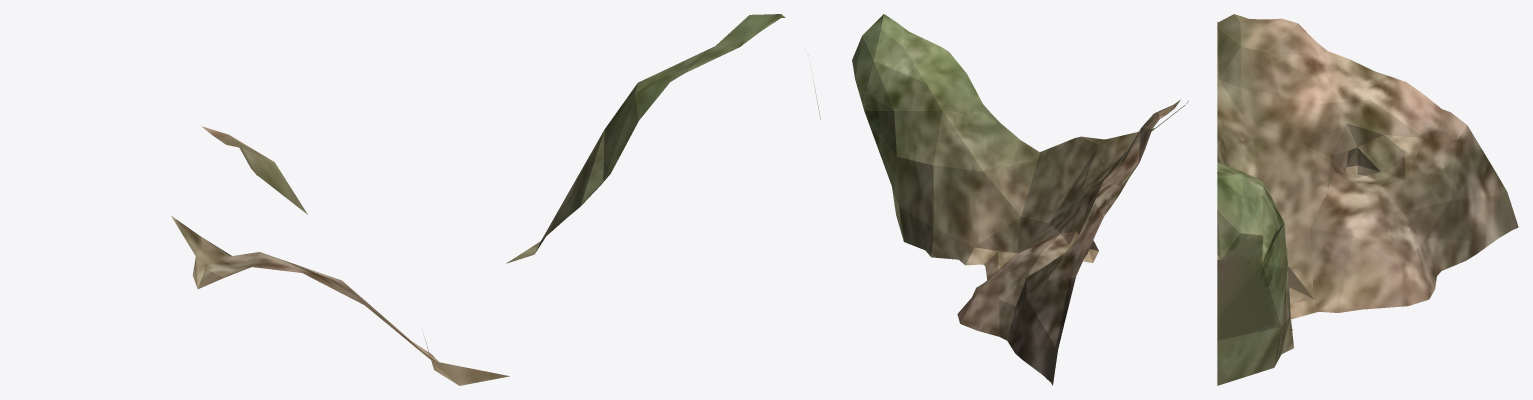
The picture shows the model from 3 angles, left to right: view 1: azimuth 30°, elevation 25°; view 2: azimuth 150°, elevation 25°; view 3: azimuth 270°, elevation 25°; orthographic projection. The views are drawn at different scales.
Size of the model in its own units: 1.39 by 0.8064 by 1.
1 material, 1 textured.
